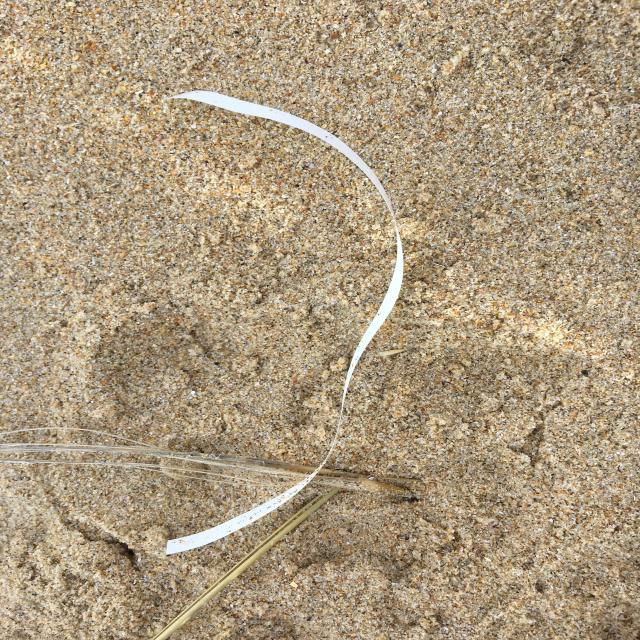Rope - strings: (163, 91, 403, 555)
